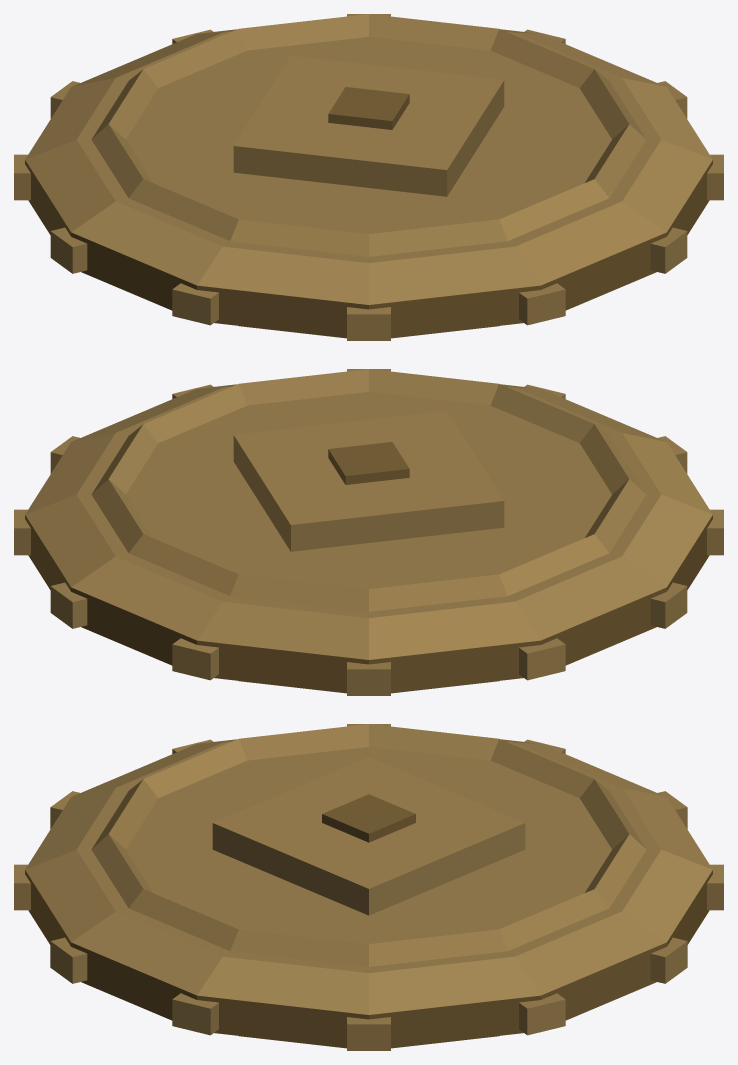
Rendered from item_coin_gold.glb.
The picture shows the model from 3 angles, top to bottom: view 1: azimuth 30°, elevation 25°; view 2: azimuth 150°, elevation 25°; view 3: azimuth 270°, elevation 25°; orthographic projection.
Visible parts, largest first — view 1: item_coin_gold; view 2: item_coin_gold; view 3: item_coin_gold.
Part boxes in pixels (<box>): item_coin_gold: <box>14,14,723,340</box>; item_coin_gold: <box>14,369,723,695</box>; item_coin_gold: <box>14,724,723,1050</box>.
Bounding box in the file's own units: 0.289 × 0.066 × 0.289.
